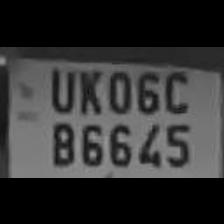0: (102, 64, 132, 112)
4: (133, 116, 161, 166)
5: (160, 116, 192, 166)
6: (132, 66, 160, 114), (105, 118, 133, 166), (75, 119, 103, 166)
B: (46, 116, 74, 164)
C: (160, 64, 190, 112)
K: (74, 62, 102, 114)
U: (44, 62, 76, 112)
